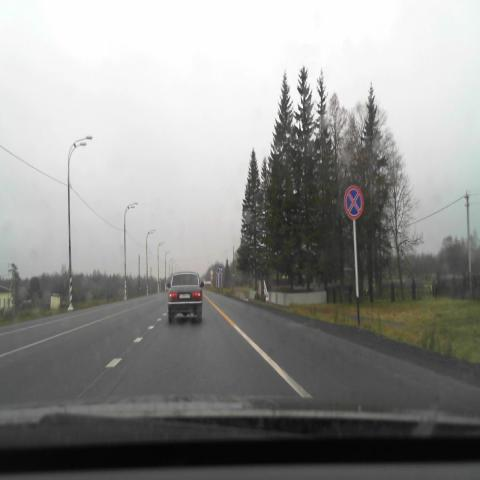3_27: (344, 184, 364, 218)
